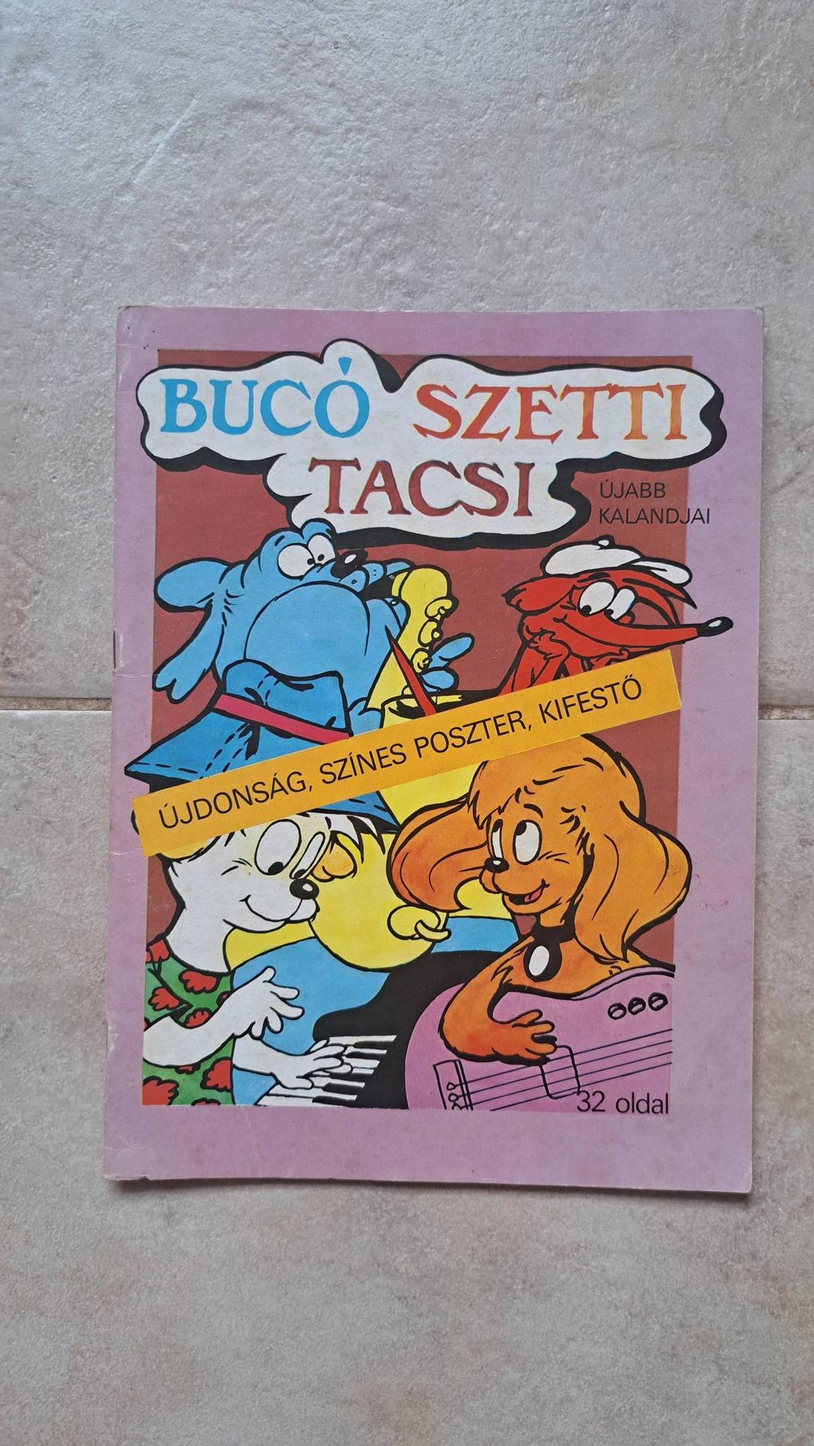comic: (106, 301, 763, 1190)
